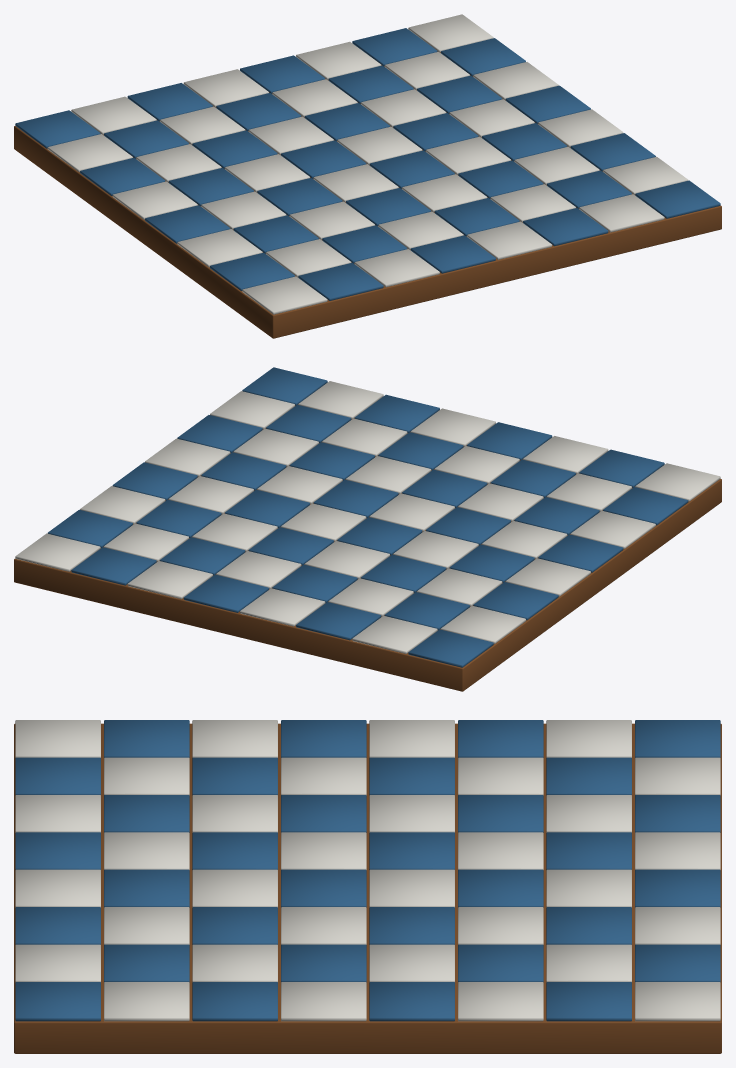
The model's file is floor_tile.glb.
3 renders of one model, top to bottom at view 1: azimuth 30°, elevation 25°; view 2: azimuth 150°, elevation 25°; view 3: azimuth 270°, elevation 25°, orthographic. The views are drawn at different scales.
Parts seen in each view (by area): view 1: floor_tile; view 2: floor_tile; view 3: floor_tile.
Boxes of the visible parts, box(x1,y1,x2,y2) form: floor_tile: box(14, 14, 721, 338); floor_tile: box(14, 367, 721, 691); floor_tile: box(14, 720, 721, 1053).
Size of the model in its own units: 2 by 0.112 by 2.
